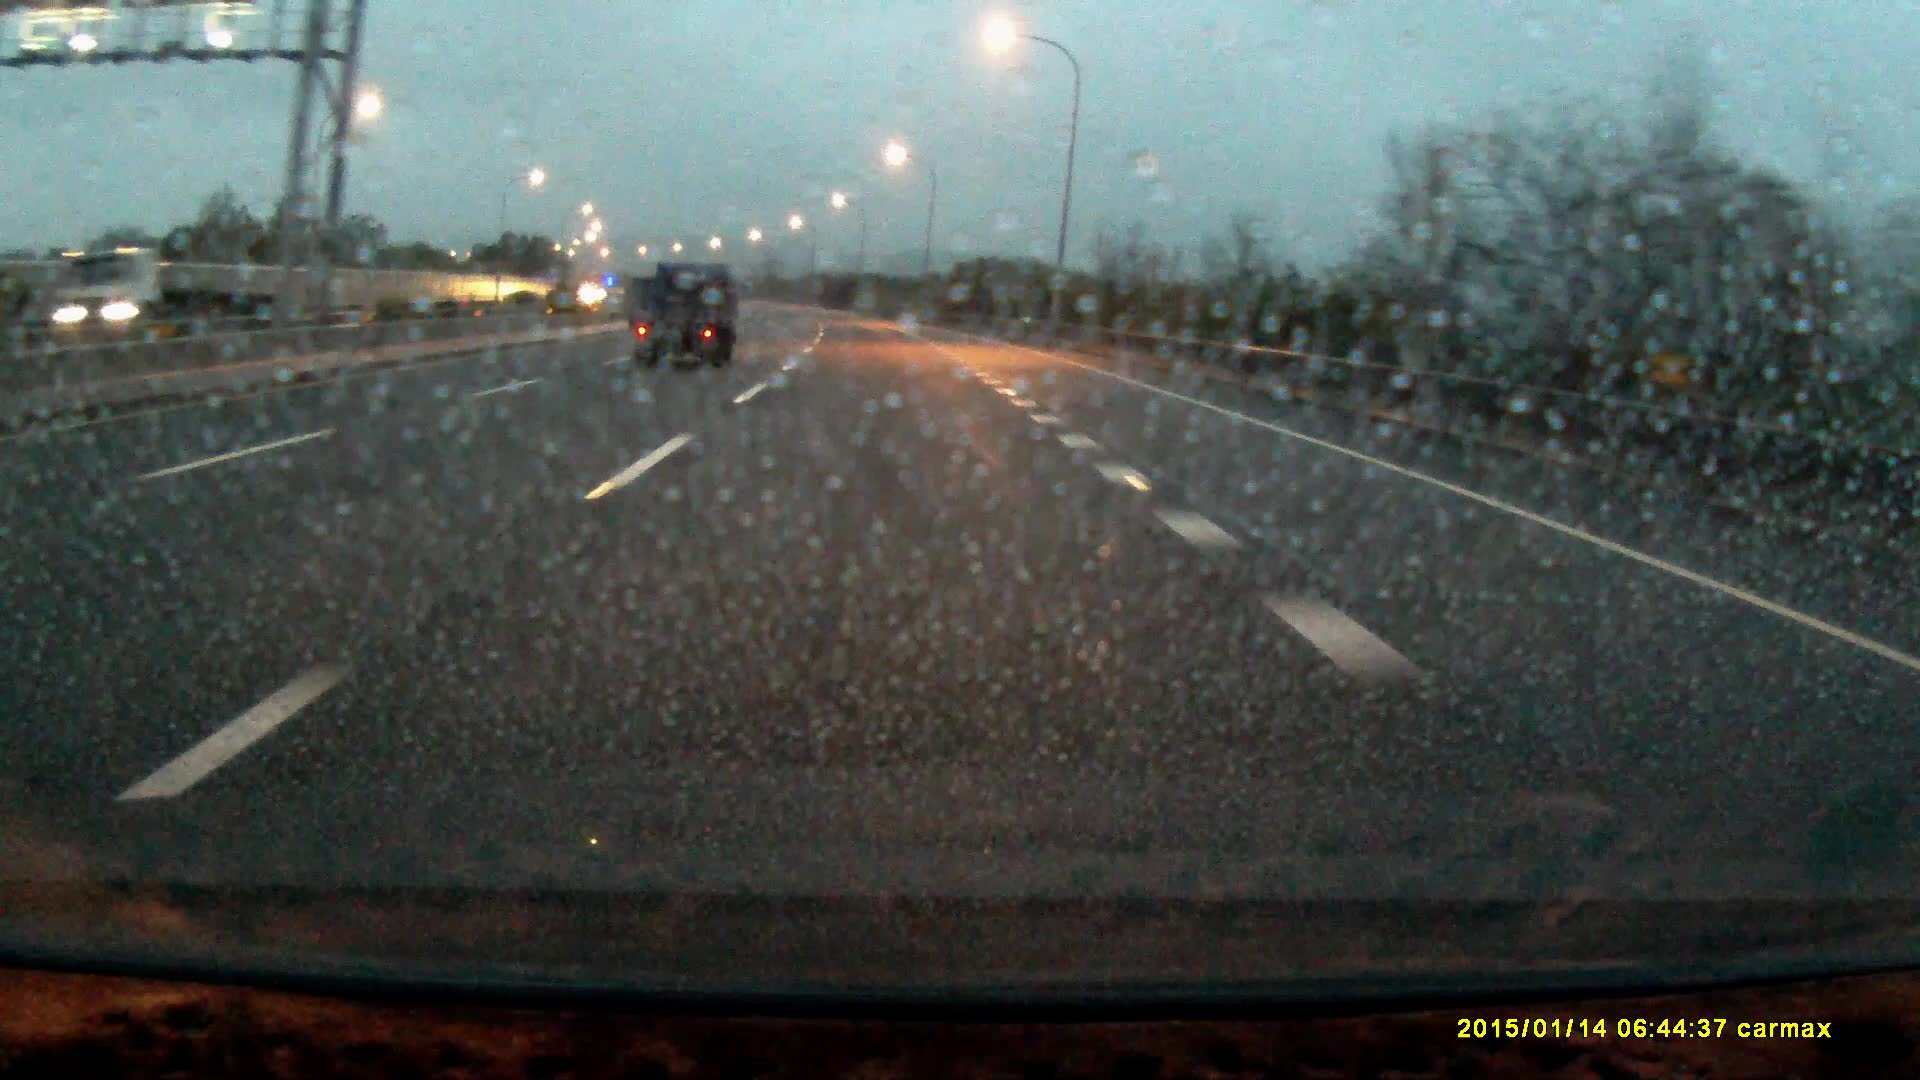vehicle: (36, 249, 262, 326), (632, 262, 740, 372)
